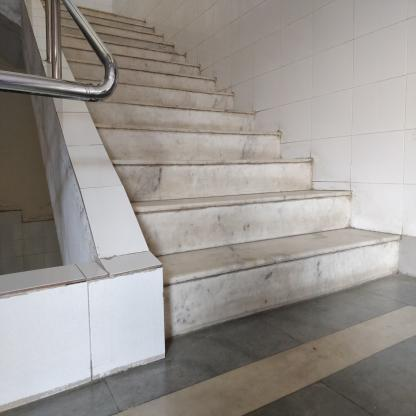stairs: (172, 174, 310, 342)
